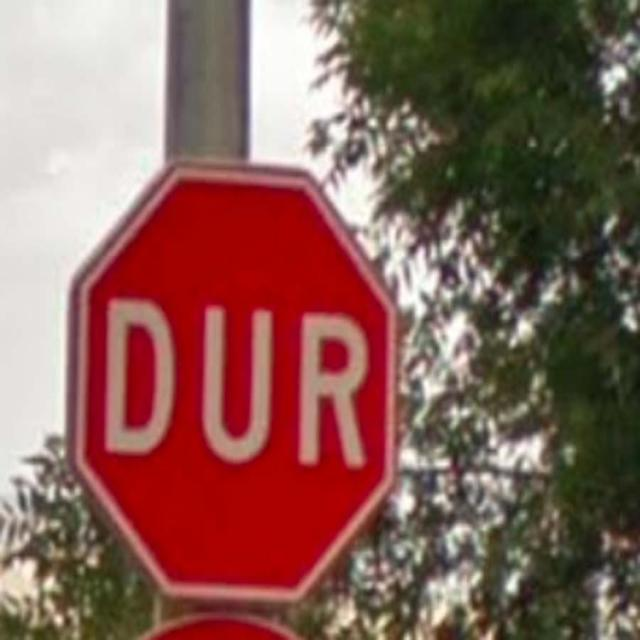dur: (68, 160, 395, 600)
